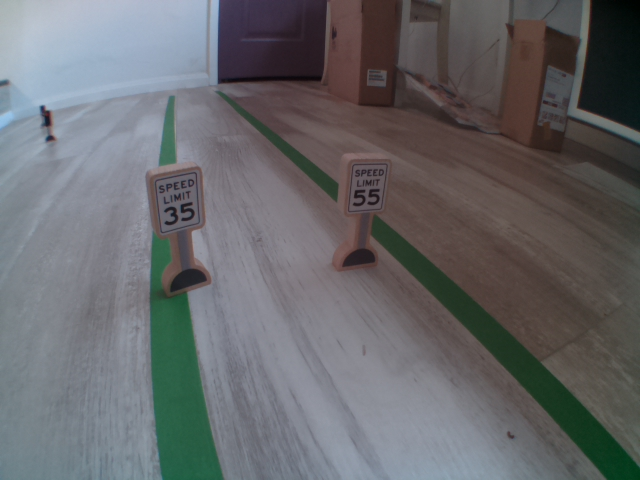Speed Limit 35: (152, 172, 202, 233)
Speed Limit 55: (345, 159, 387, 213)
